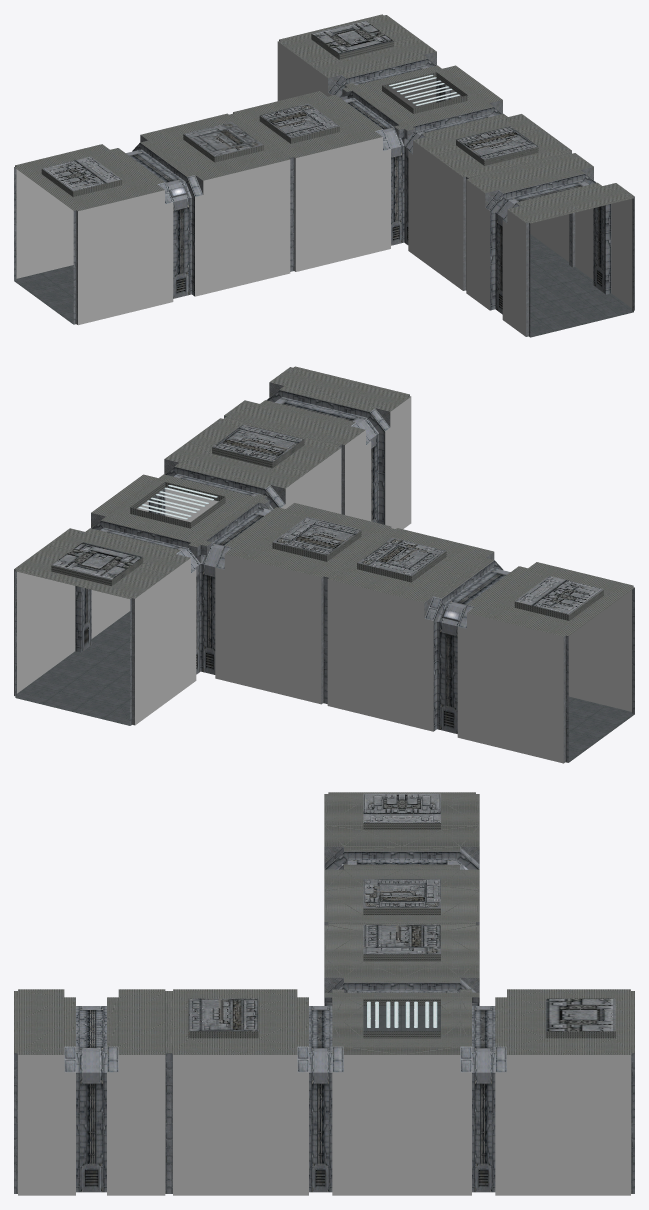
File: poi_all_impl_bunker_small_outpost_s01_r38_hall_mesh.fbx
The picture shows the model from 3 angles, top to bottom: view 1: azimuth 30°, elevation 25°; view 2: azimuth 150°, elevation 25°; view 3: azimuth 270°, elevation 25°; orthographic projection. The views are drawn at different scales.
Parts seen in each view (by area): view 1: mesh_node; view 2: mesh_node; view 3: mesh_node.
Boxes of the visible parts, box(x1,y1,x2,y2) form: mesh_node: box(14, 14, 634, 337); mesh_node: box(14, 366, 634, 763); mesh_node: box(14, 792, 634, 1195).
Bounding box in the file's own units: 16 × 4.2 × 16.
